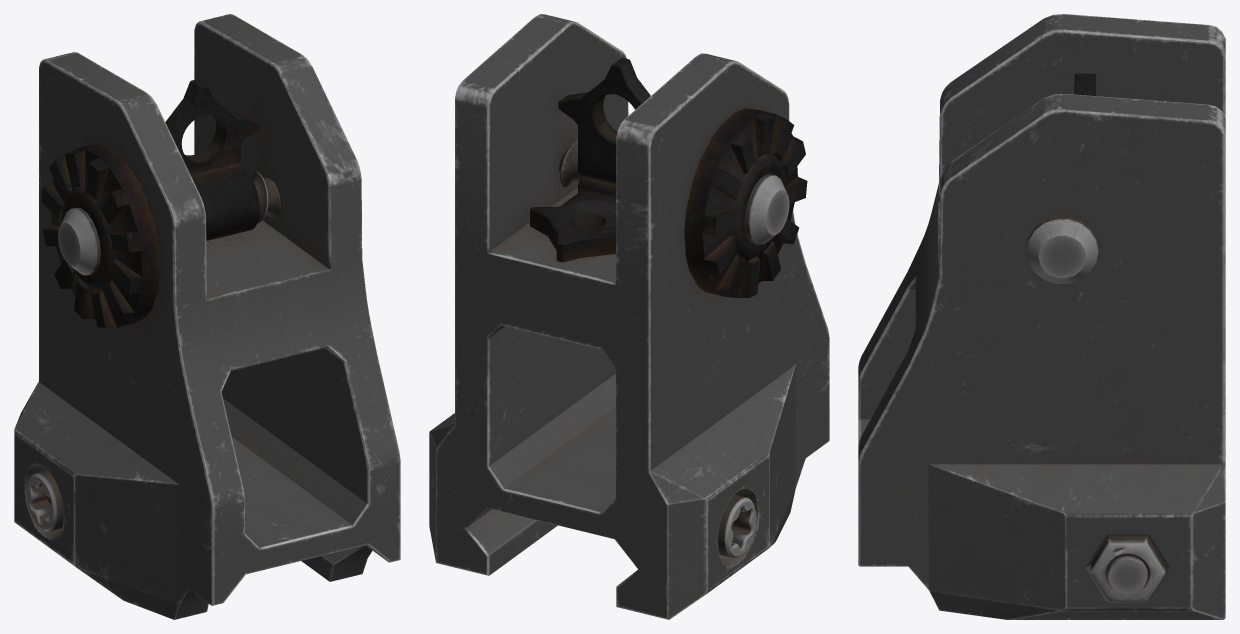
File: IronSights_1_B.glb
The picture shows the model from 3 angles, left to right: view 1: azimuth 30°, elevation 25°; view 2: azimuth 150°, elevation 25°; view 3: azimuth 270°, elevation 25°; orthographic projection. The views are drawn at different scales.
Visible parts, largest first — view 1: IronSights_1_B; view 2: IronSights_1_B; view 3: IronSights_1_B.
Boxes of the visible parts, <box> form: IronSights_1_B: <box>14,14,400,619</box>; IronSights_1_B: <box>429,14,829,619</box>; IronSights_1_B: <box>858,14,1225,619</box>.
Size of the model in its own units: 0.0378 by 0.0585 by 0.039.
Materials: 1 (1 with a texture image).
